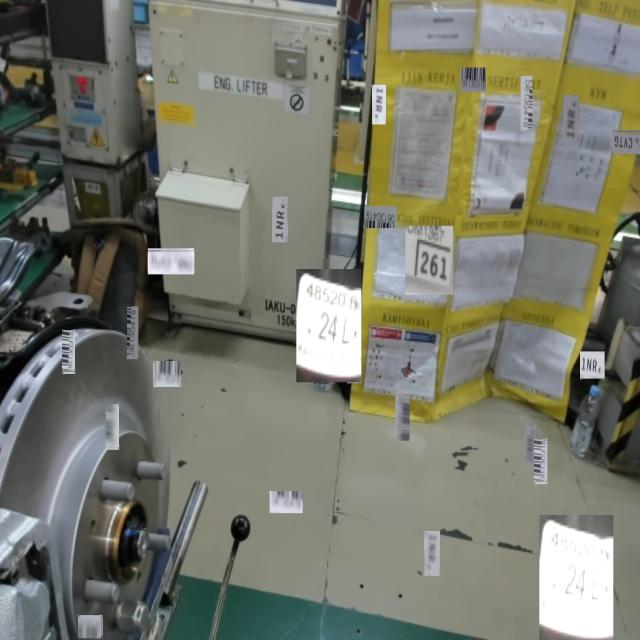Absorber LH-24: (559, 554, 608, 618), (313, 299, 356, 360)
Disc-SV: (43, 399, 170, 640)
Engine Assy-261: (411, 242, 453, 287)
